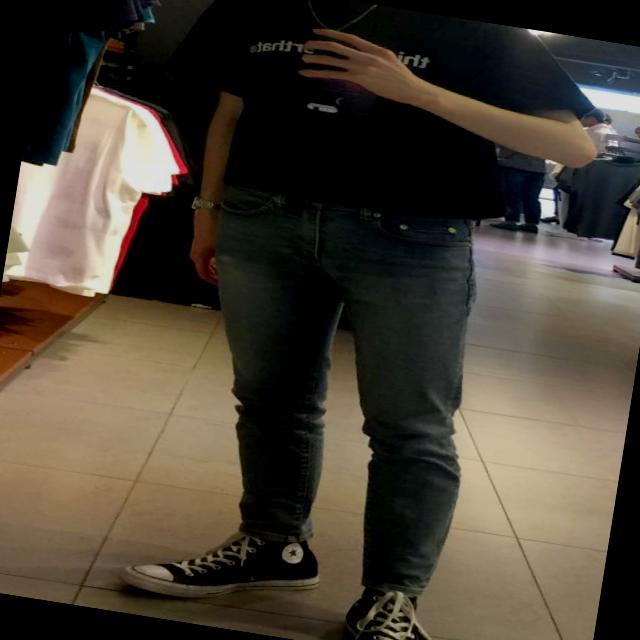denimpants: (174, 180, 502, 598)
shortsleeve: (150, 0, 615, 239)
